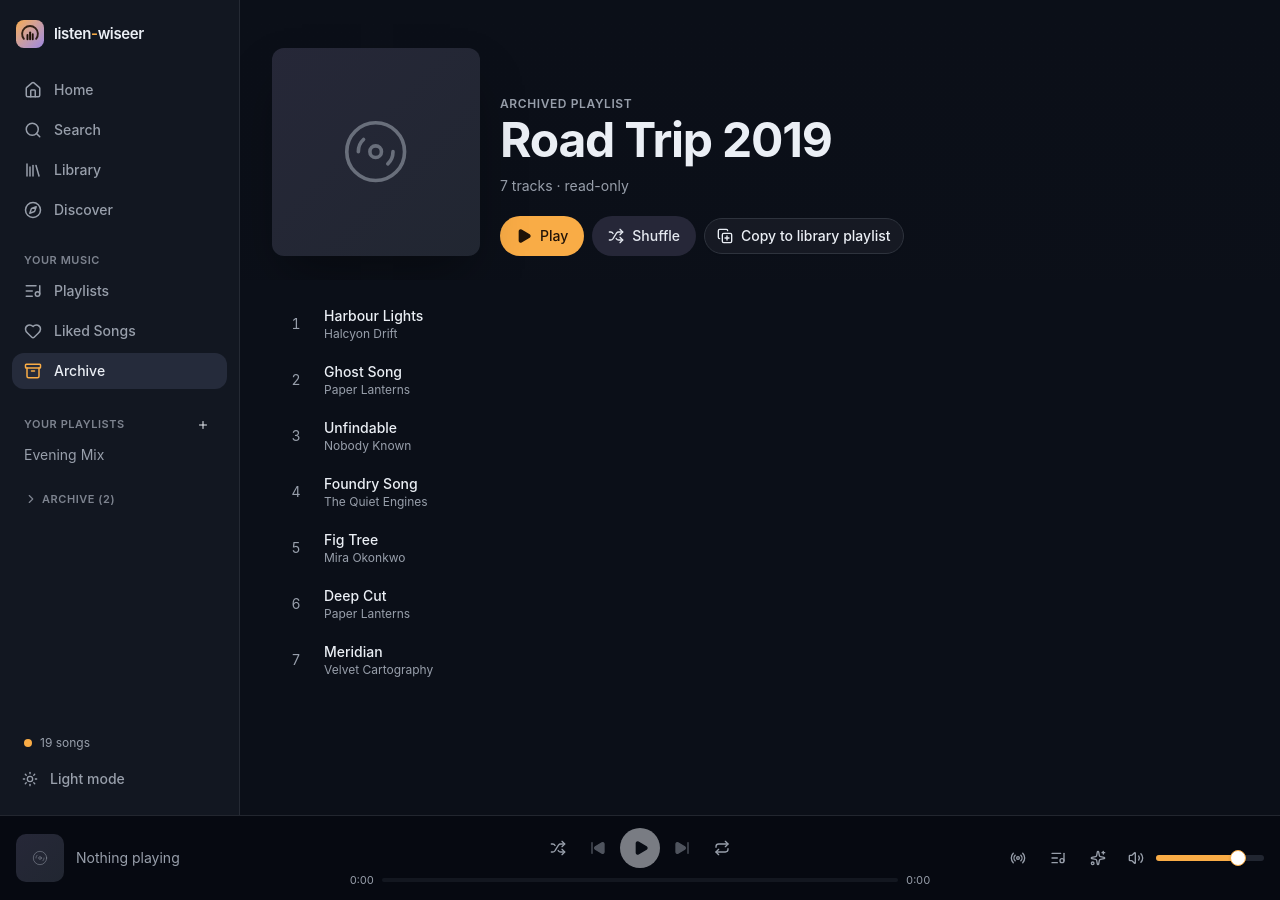
Test: archive › copies to a library playlist and reports the unmatched tracks
Check: the heading "Road Trip 2019" is shown, box [500, 110, 832, 169]
Step 1. Click the button "Copy to library playlist" → (804, 236), box [704, 218, 904, 254]
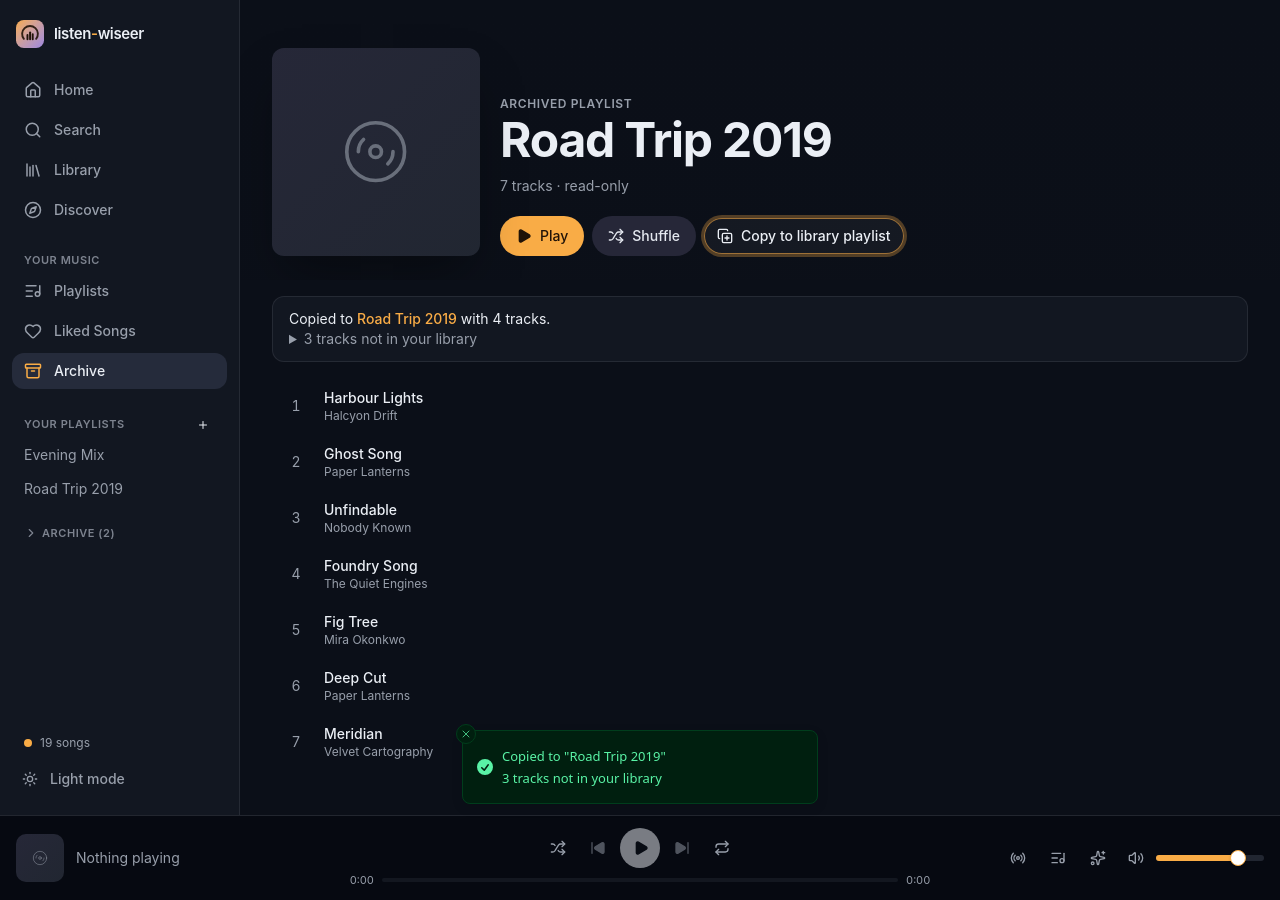
Check: the message shows "Copied to Road Trip 2019 with 4 tracks.", box [272, 296, 1248, 362]
Check: the message shows "3 tracks not in your library", box [272, 296, 1248, 362]
